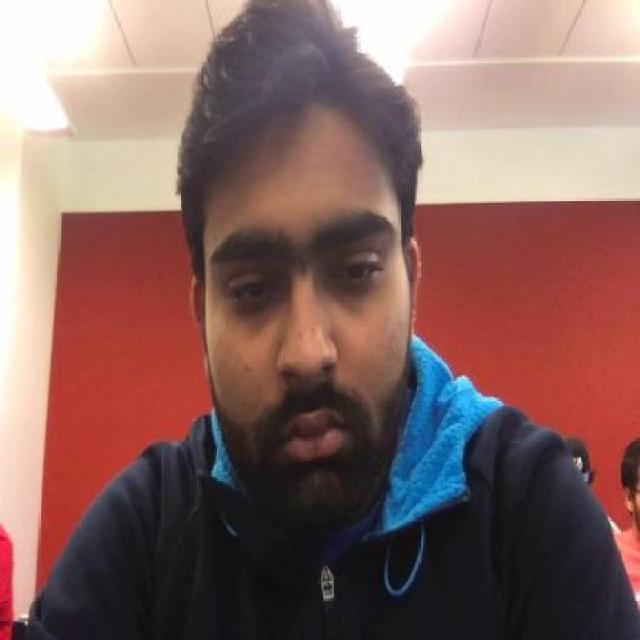awake: (332, 250, 378, 292), (229, 271, 276, 311)
